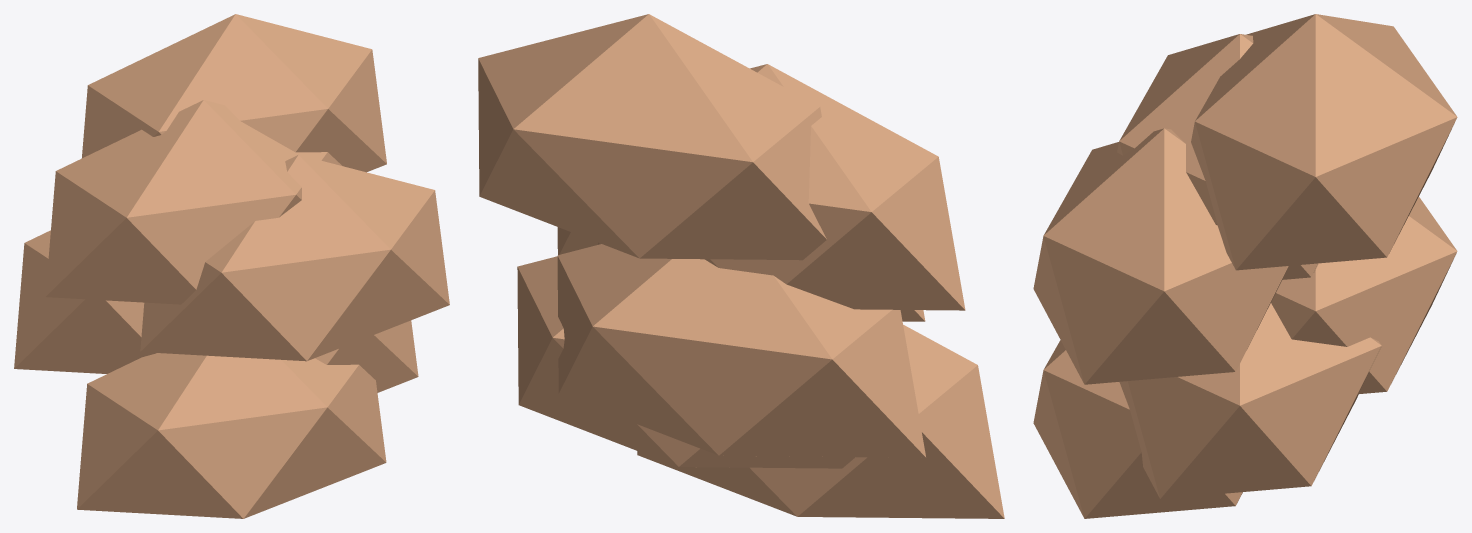
Rendered from item_096_seal_l.glb.
The picture shows the model from 3 angles, left to right: view 1: azimuth 30°, elevation 25°; view 2: azimuth 150°, elevation 25°; view 3: azimuth 270°, elevation 25°; orthographic projection. The views are drawn at different scales.
Visible parts, largest first — view 1: item_096_seal_l; view 2: item_096_seal_l; view 3: item_096_seal_l.
Boxes of the visible parts, x1=… form: item_096_seal_l: x1=14, y1=14, x2=449, y2=518; item_096_seal_l: x1=478, y1=14, x2=1004, y2=518; item_096_seal_l: x1=1033, y1=14, x2=1457, y2=518.
Size of the model in its own units: 0.3954 by 0.4563 by 0.3362.
